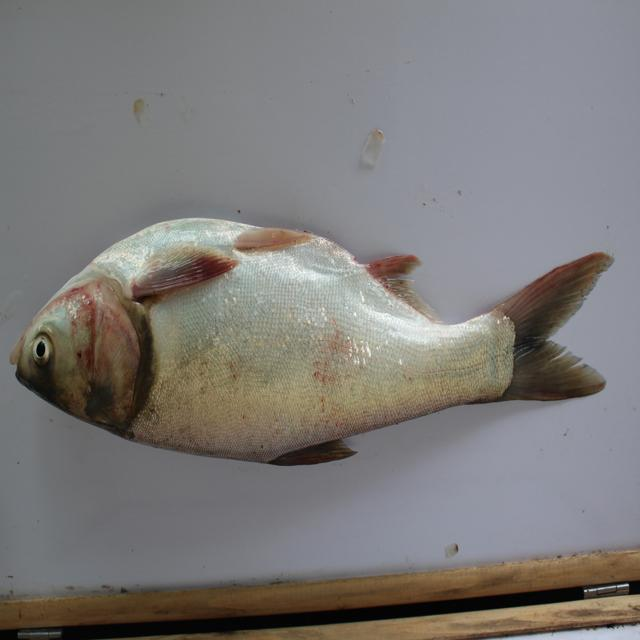SilverCarp: (3, 213, 636, 473)
